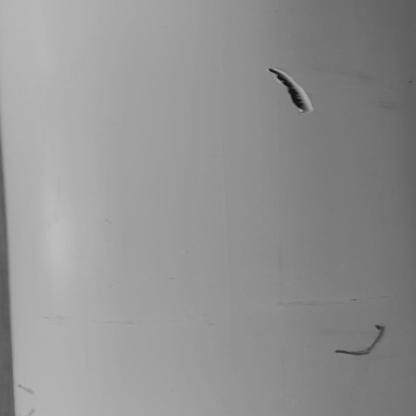fengxi: (330, 320, 390, 357)
kongdong: (259, 59, 328, 119)
